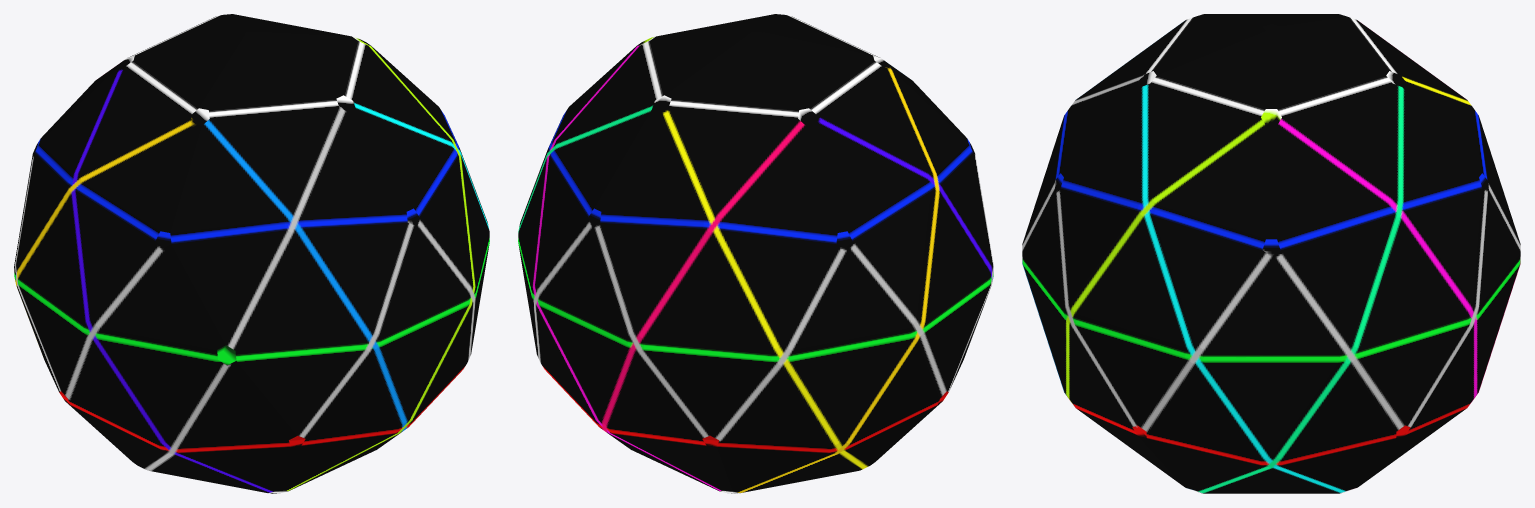
Rendered from Electrobun.gltf.
The picture shows the model from 3 angles, left to right: view 1: azimuth 30°, elevation 25°; view 2: azimuth 150°, elevation 25°; view 3: azimuth 270°, elevation 25°; orthographic projection. The views are drawn at different scales.
Visible parts, largest first — view 1: Icosphere; view 2: Icosphere; view 3: Icosphere.
Part boxes in pixels (box(x1,y1,x2,y2)): Icosphere: box(14, 14, 489, 493); Icosphere: box(518, 14, 993, 493); Icosphere: box(1022, 14, 1520, 493).
Size of the model in its own units: 1.9 by 1.97 by 1.97.
1 material, 1 textured.
